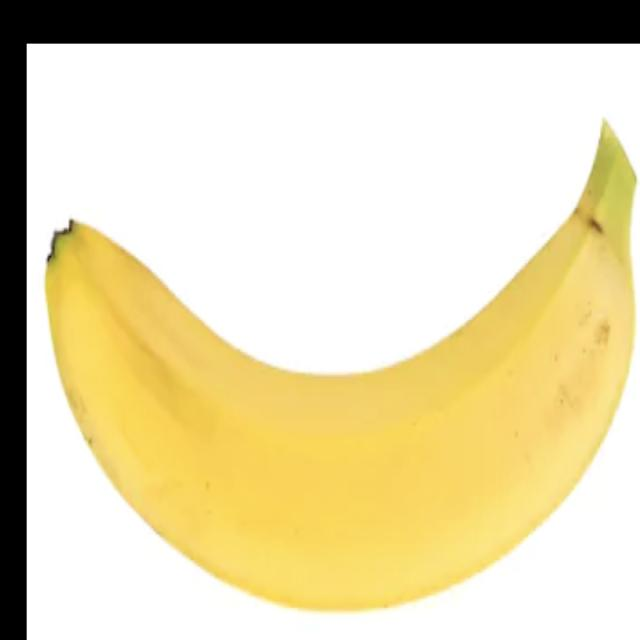Ripe: (45, 96, 640, 636)
